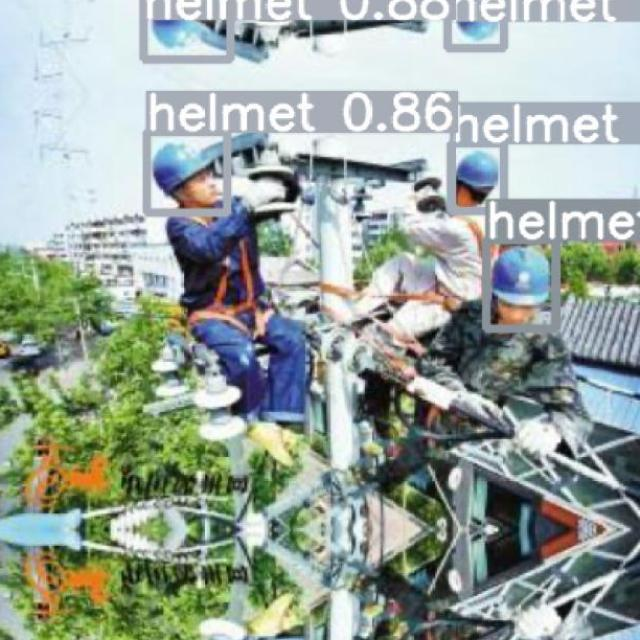helmet: (491, 247, 550, 306), (456, 151, 498, 189)
